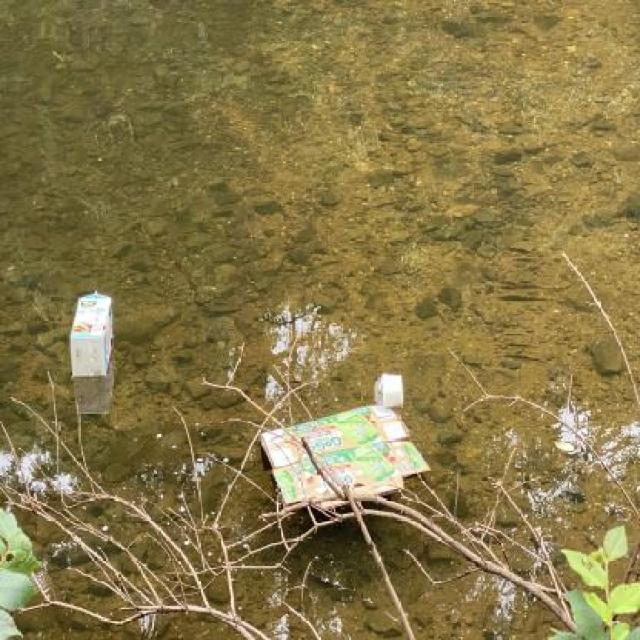Cardboard: (264, 398, 439, 514), (64, 285, 119, 387)
Paper: (368, 364, 409, 414)
